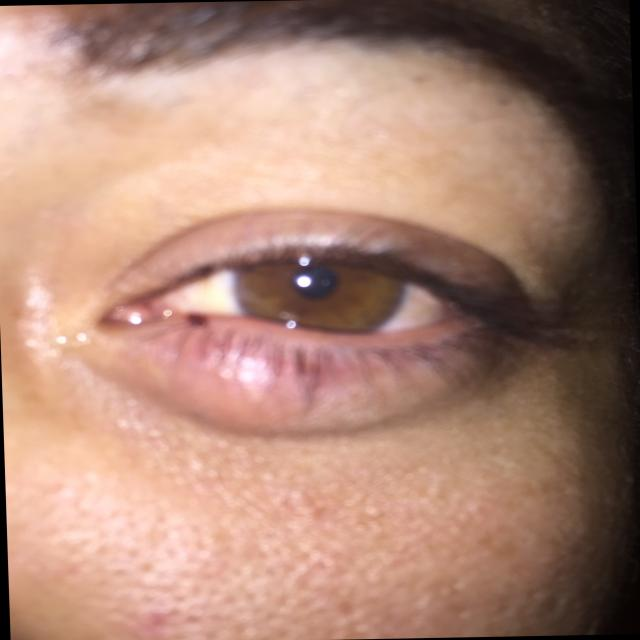Chalazion: (78, 192, 560, 463)
